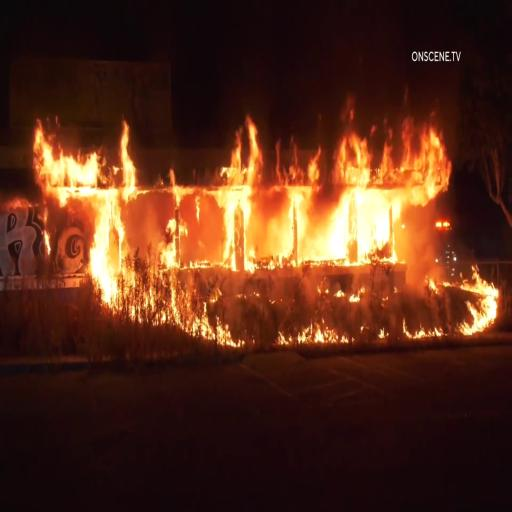fire: (227, 110, 450, 198), (152, 194, 402, 257), (32, 116, 138, 198), (459, 259, 505, 333)
